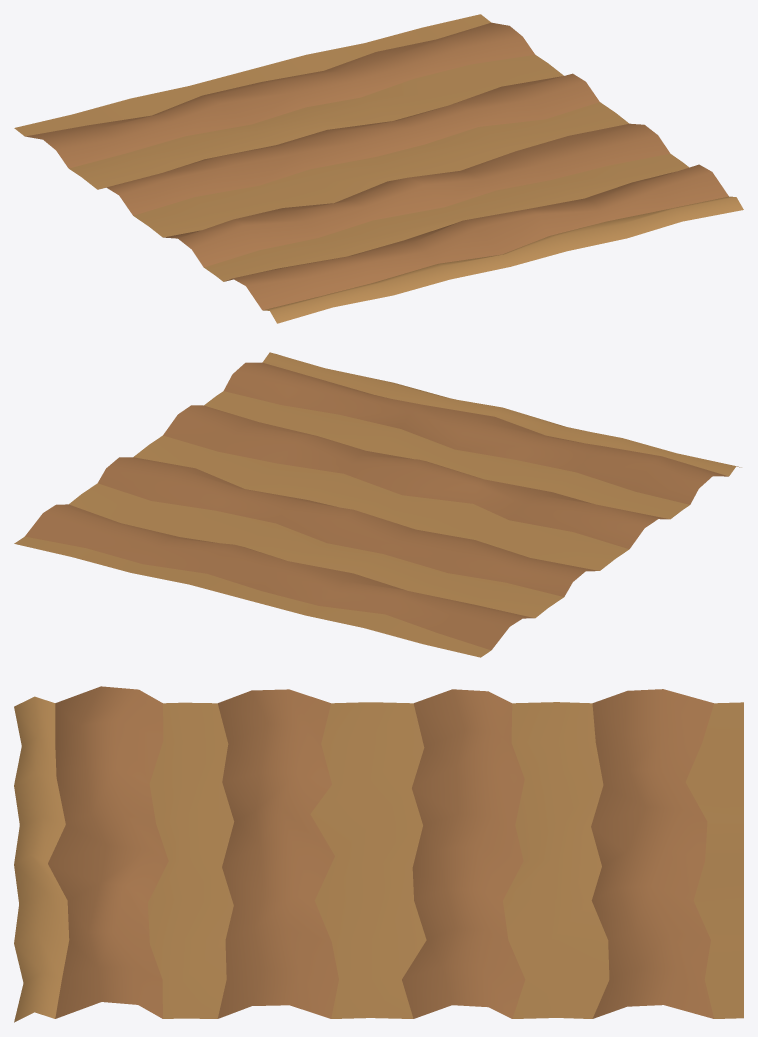
The model's file is Building_model_0_Fieldrightedge001.fbx.
3 renders of one model, top to bottom at view 1: azimuth 30°, elevation 25°; view 2: azimuth 150°, elevation 25°; view 3: azimuth 270°, elevation 25°, orthographic. The views are drawn at different scales.
Visible parts, largest first — view 1: Building_model_0_Fieldrightedge001; view 2: Building_model_0_Fieldrightedge001; view 3: Building_model_0_Fieldrightedge001.
Part boxes in pixels (x1,y1,x2,y2): Building_model_0_Fieldrightedge001: (14, 14, 743, 323); Building_model_0_Fieldrightedge001: (14, 352, 741, 657); Building_model_0_Fieldrightedge001: (14, 686, 743, 1022).
Size of the model in its own units: 3 by 0.1042 by 2.93.
